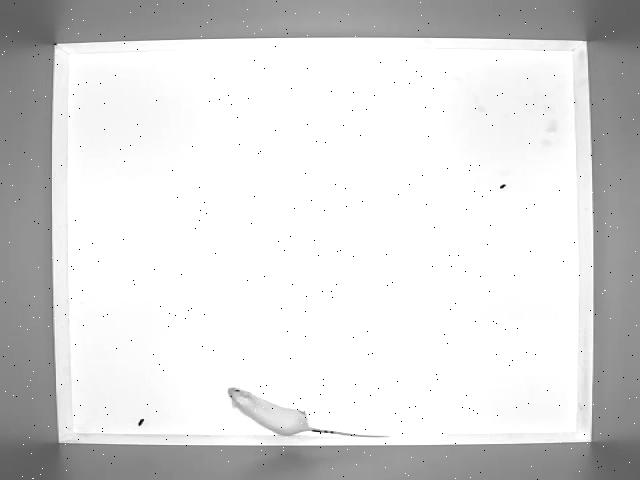Tikus: (216, 382, 390, 444)
